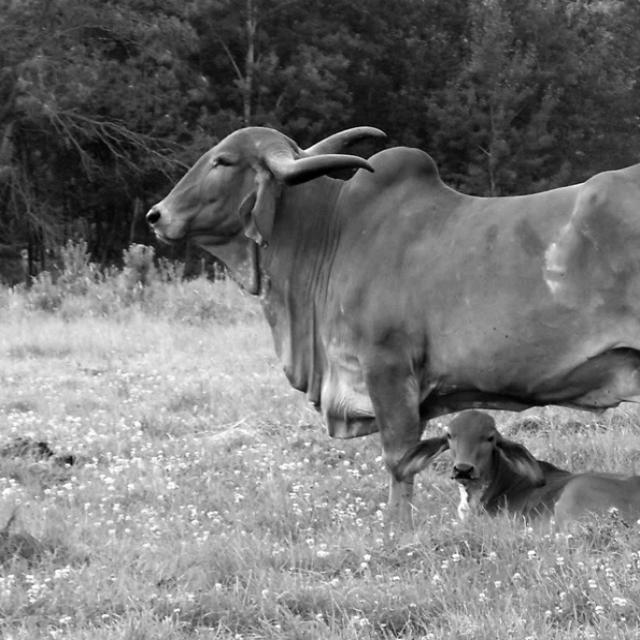Cow: (145, 123, 639, 524)
